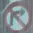Don't turn right: (2, 2, 32, 31)
